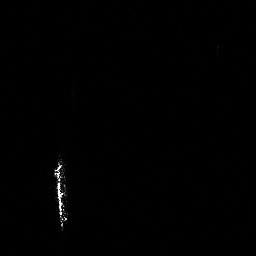ship: (50, 158, 69, 229)
